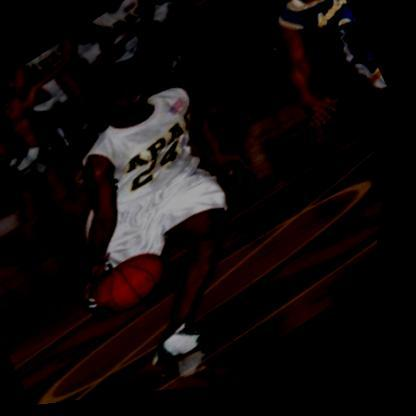basketball: (83, 229, 194, 337)
